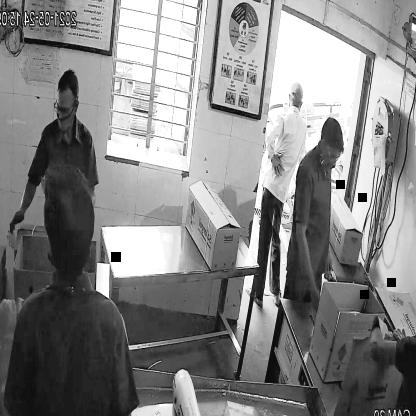goggles: (52, 94, 80, 120)
